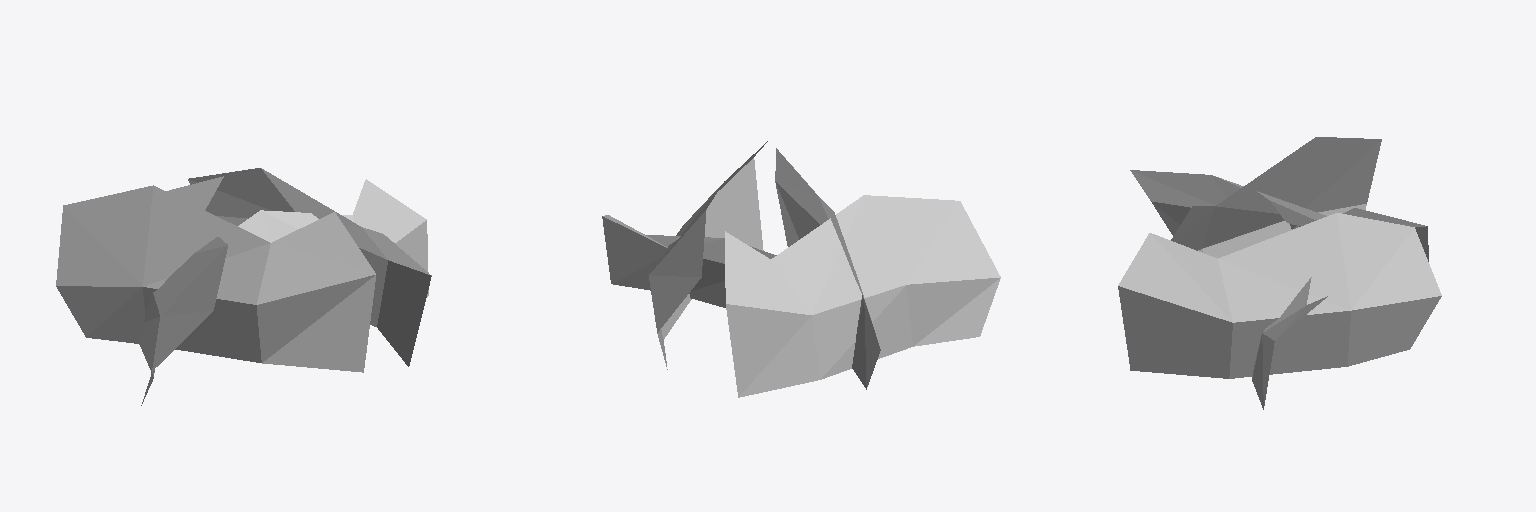
File: GrassPatch02.obj
3 renders of one model, left to right at view 1: azimuth 30°, elevation 25°; view 2: azimuth 150°, elevation 25°; view 3: azimuth 270°, elevation 25°, orthographic.
Parts seen in each view (by area): view 1: GrassPatch02; view 2: GrassPatch02; view 3: GrassPatch02.
Boxes of the visible parts, box(x1,y1,x2,y2) form: GrassPatch02: box(56, 168, 431, 405); GrassPatch02: box(602, 141, 1000, 397); GrassPatch02: box(1118, 137, 1441, 409).
Size of the model in its own units: 72.27 by 31.98 by 60.18.